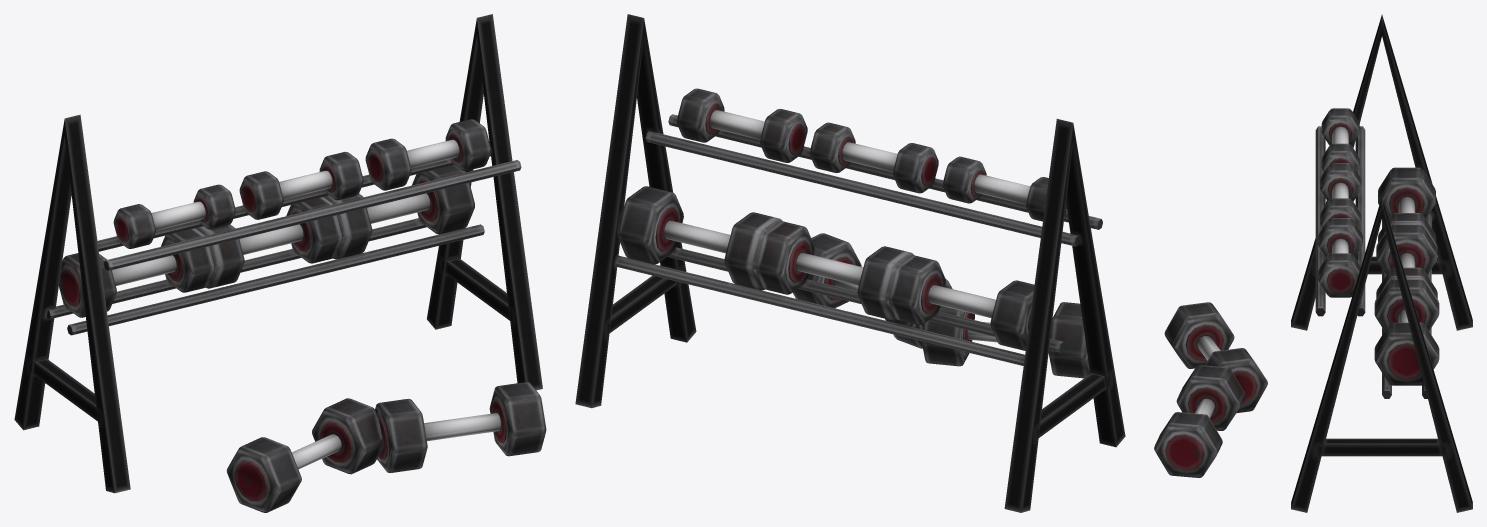
The model's file is Dumbbells.fbx.
3 renders of one model, left to right at view 1: azimuth 30°, elevation 25°; view 2: azimuth 150°, elevation 25°; view 3: azimuth 270°, elevation 25°, orthographic. The views are drawn at different scales.
Visible parts, largest first — view 1: Dumbbells; view 2: Dumbbells; view 3: Dumbbells.
Boxes of the visible parts, x1=… form: Dumbbells: x1=14, y1=14, x2=546, y2=512; Dumbbells: x1=575, y1=14, x2=1125, y2=512; Dumbbells: x1=1154, y1=14, x2=1472, y2=512.
Bounding box in the file's own units: 270 × 206 × 192.
